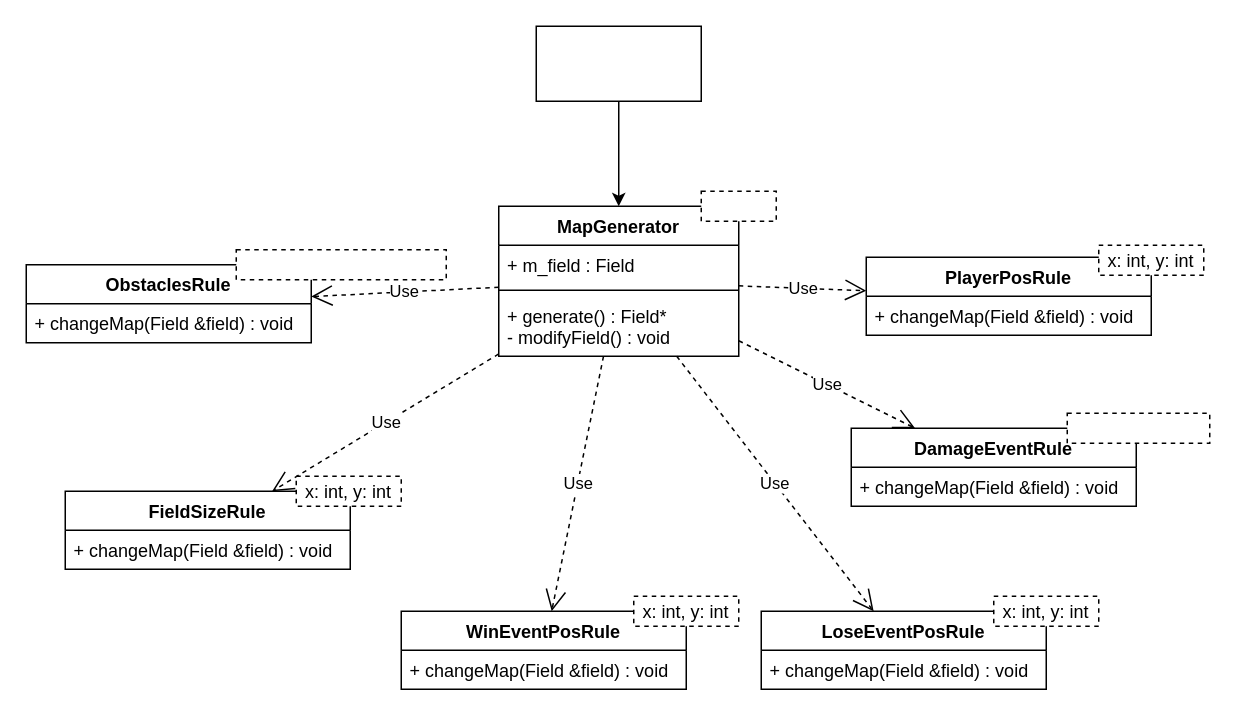
Image size: 1236x720. Some labels were removed from this diagram. The centre of each missing label's shape, as x and y in pixels:
Controller: [618,63]
probability: int: [1138,427]
T...: [738,205]
variant: ObstacleVariant: [340,264]
